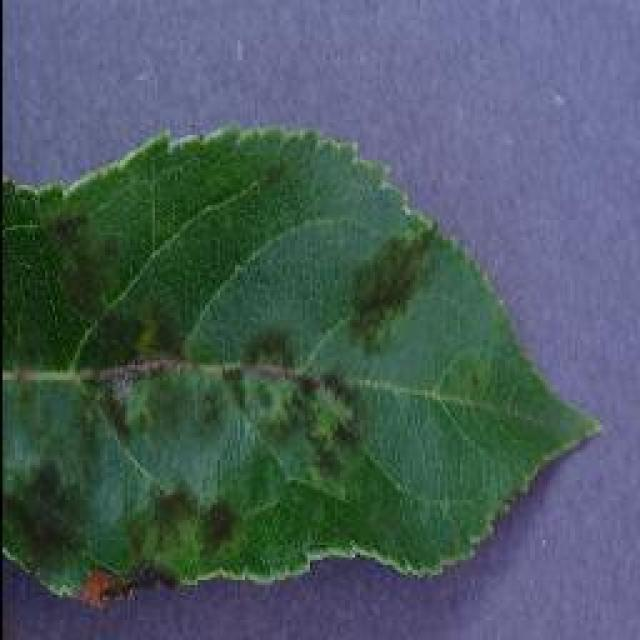apple scab disease: (0, 120, 602, 605)
